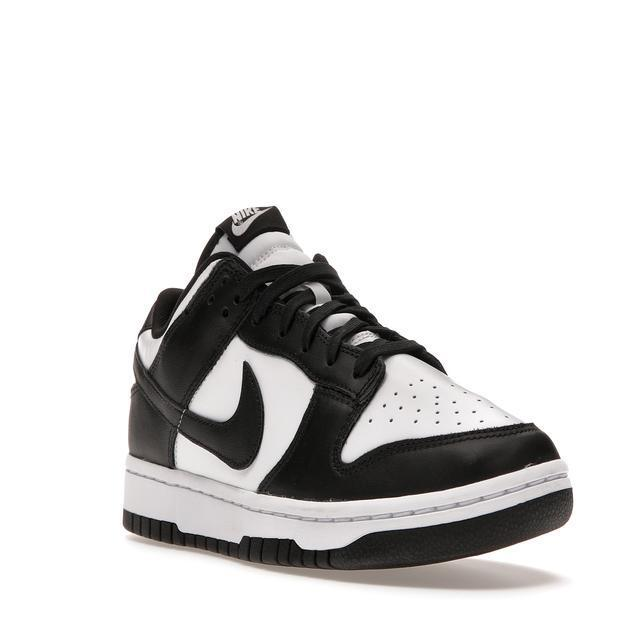J1_InsoleChar: (119, 202, 575, 573)
J1_StitchPattern: (255, 270, 535, 457), (120, 456, 574, 570), (338, 370, 538, 467), (269, 276, 445, 374), (120, 507, 331, 570), (335, 418, 540, 468), (192, 202, 307, 274), (276, 278, 387, 352), (369, 375, 515, 431), (215, 201, 280, 240), (226, 203, 270, 229)
